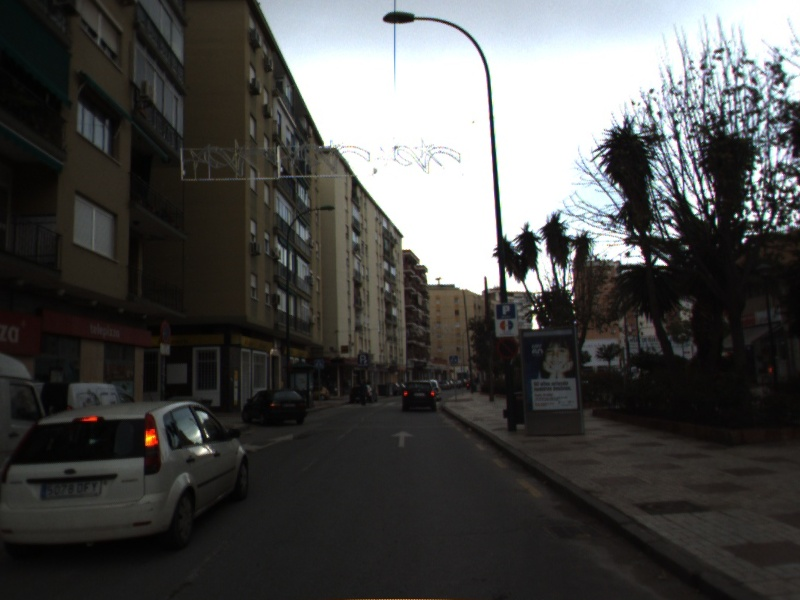STRAIGHT: (389, 429, 417, 449)
STRAIGHT_LEFT: (240, 431, 295, 454)
